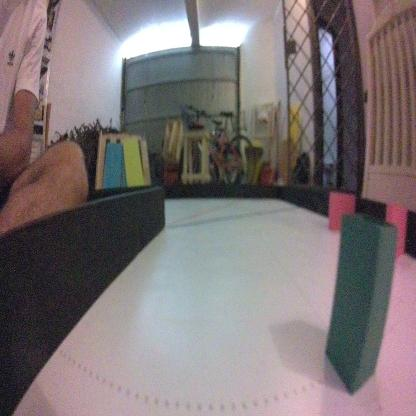green: (322, 214, 402, 395)
magenta: (326, 188, 351, 230)
